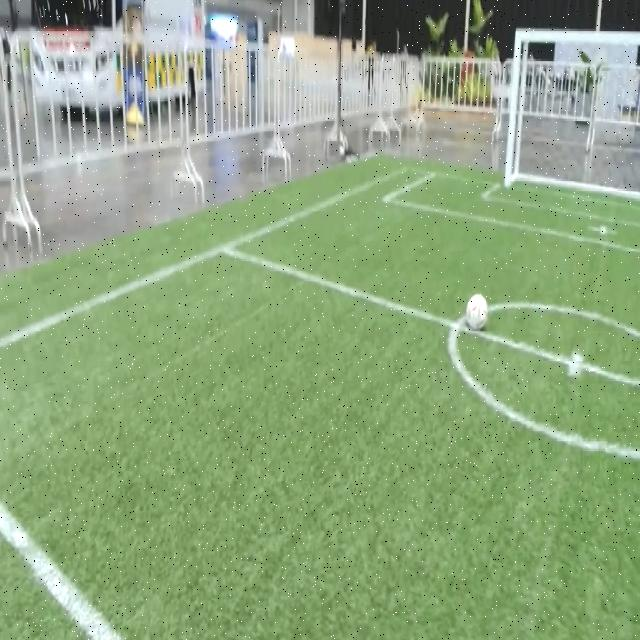ball: (466, 293, 488, 332)
goalpost: (504, 161, 514, 190)
